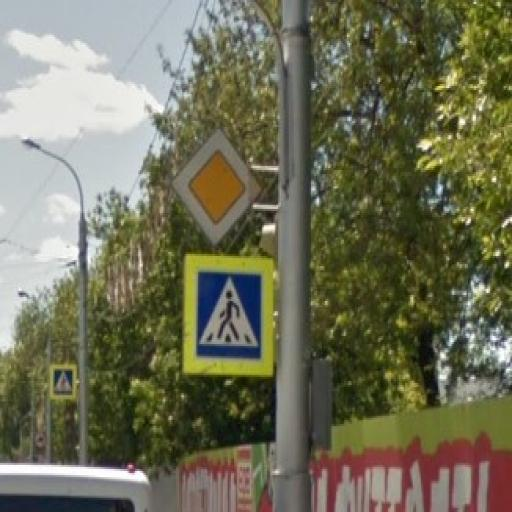traffic_sign: (183, 251, 276, 380), (172, 128, 262, 247), (51, 366, 78, 403)
